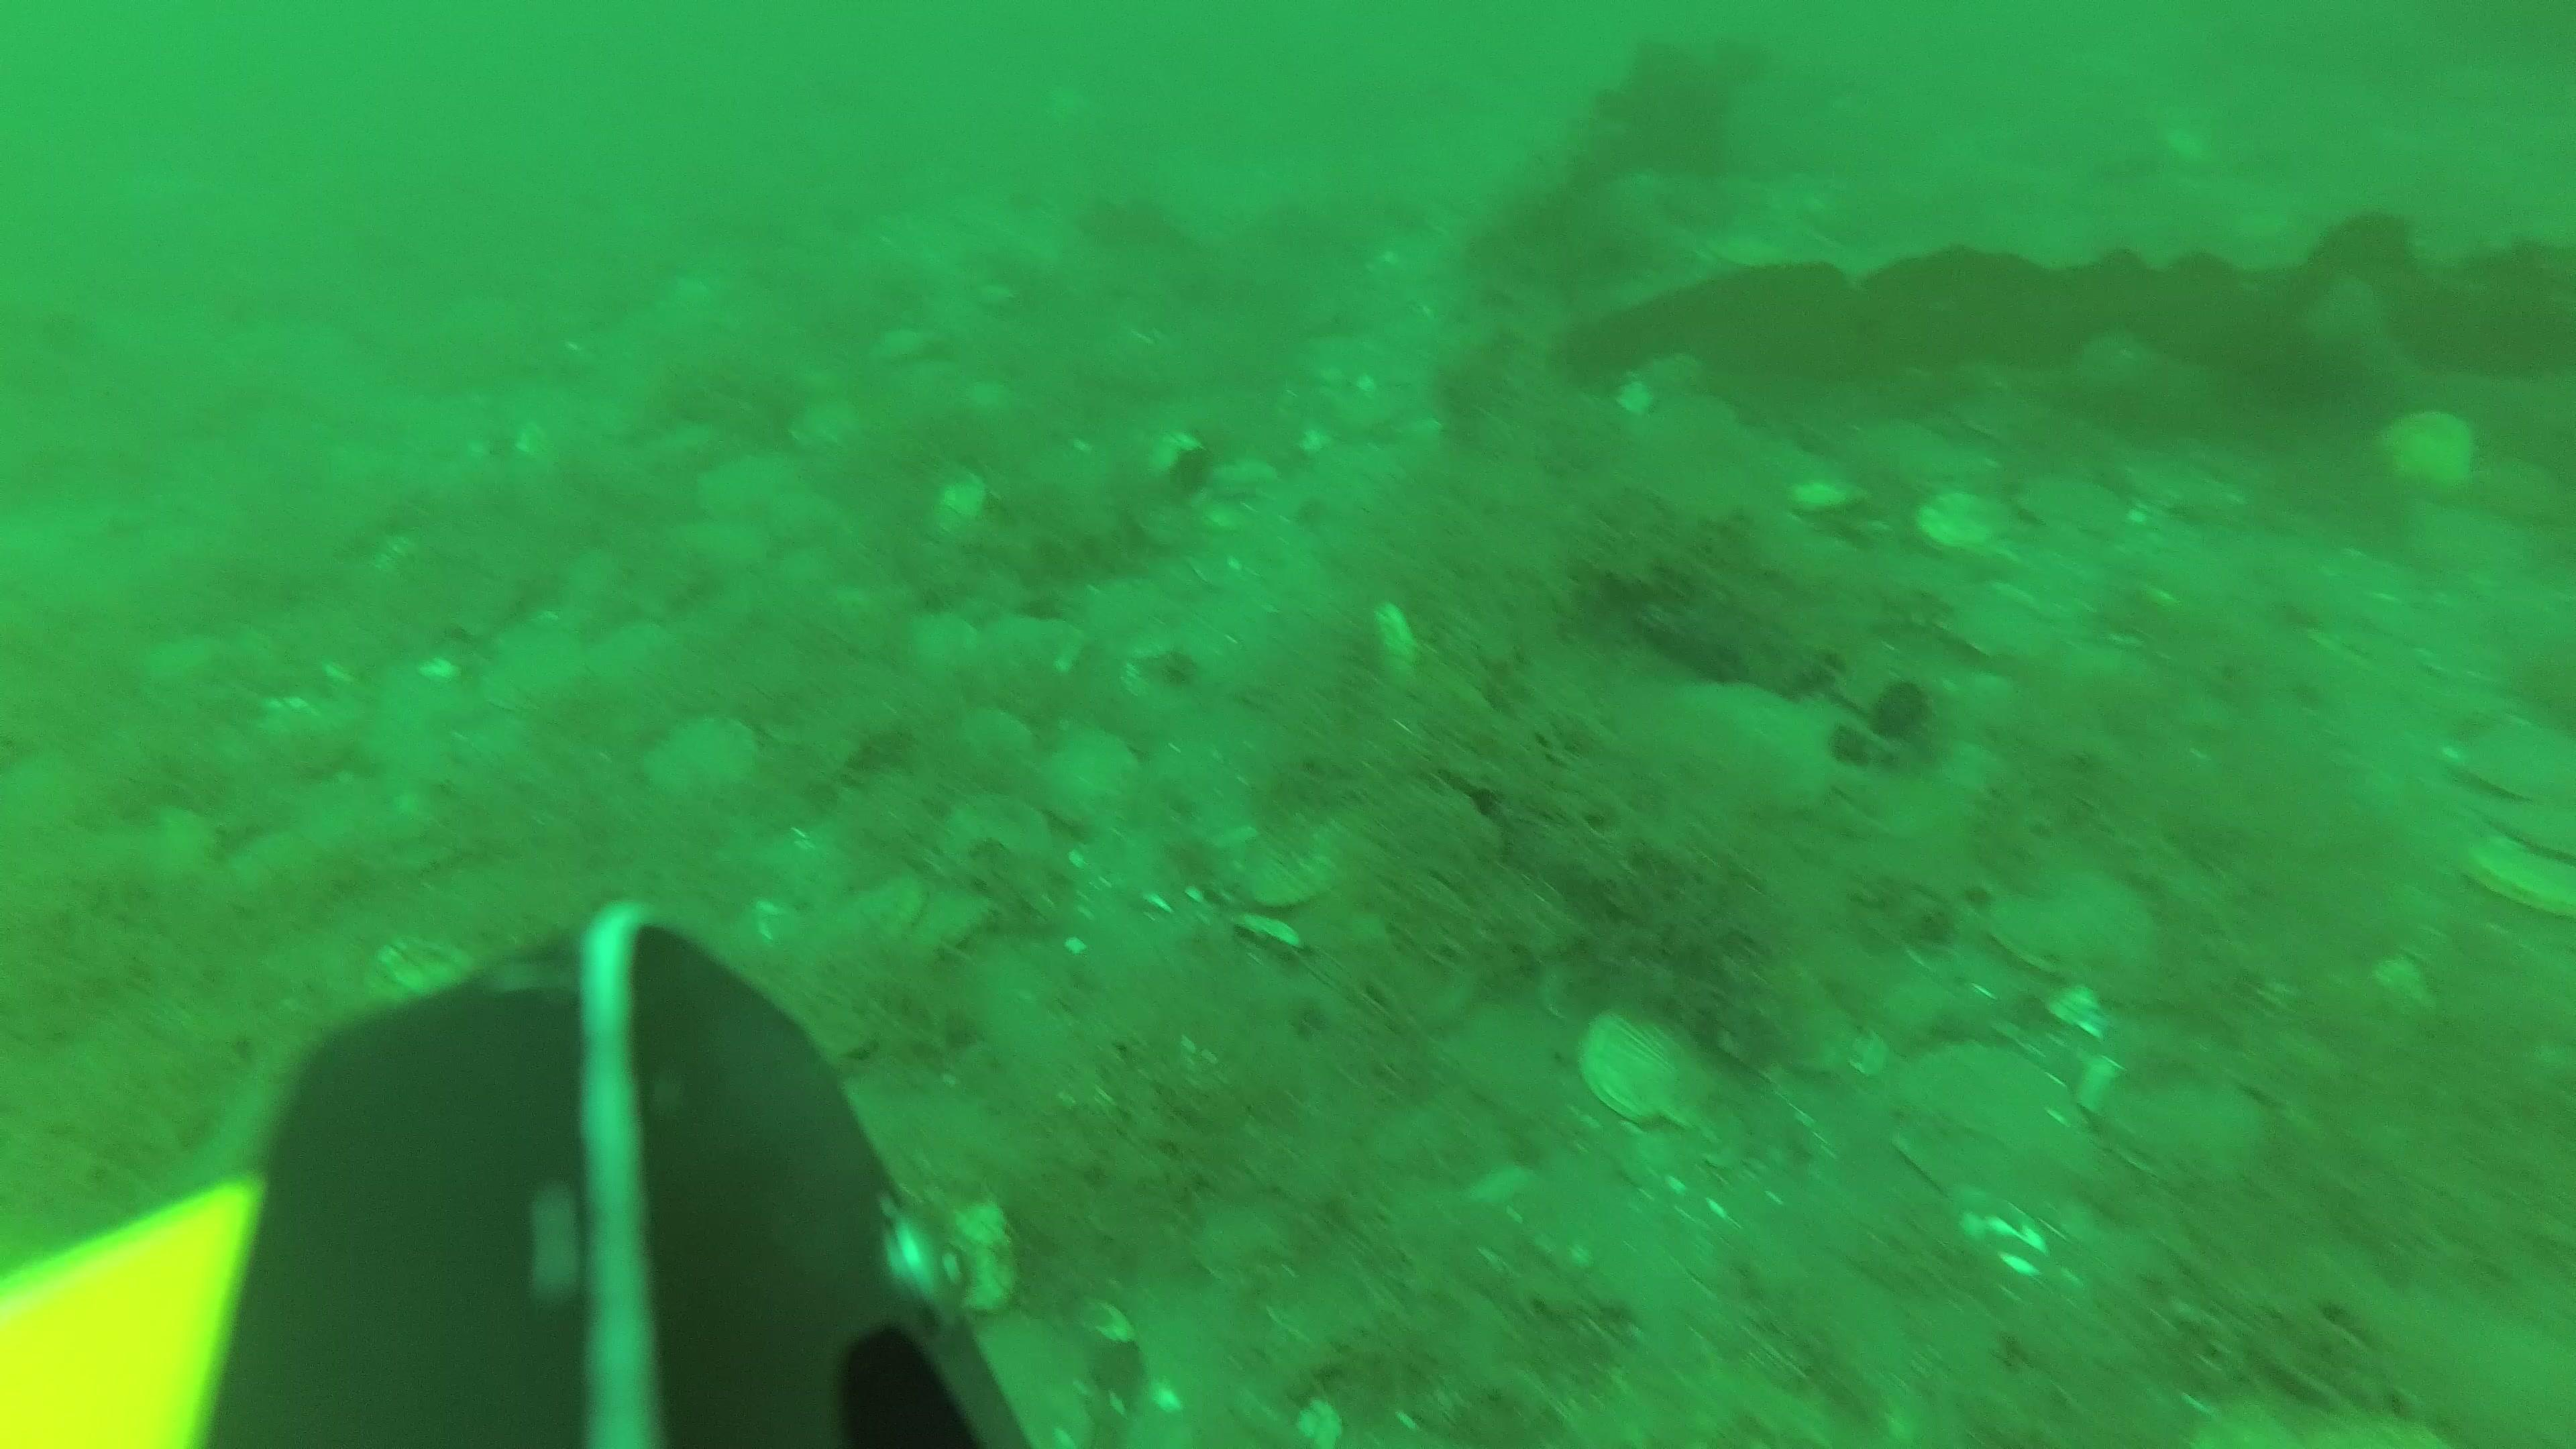scallop: (1897, 1047, 2077, 1226), (1663, 679, 1836, 832), (2112, 1054, 2268, 1192), (2001, 855, 2148, 985), (1566, 1001, 1697, 1118), (2463, 809, 2576, 924), (2443, 711, 2576, 800), (642, 702, 755, 800), (1030, 718, 1139, 816), (1932, 580, 2056, 663), (1244, 810, 1345, 909), (888, 899, 993, 989), (2385, 402, 2486, 488), (817, 883, 918, 970), (1921, 488, 2024, 559), (2498, 780, 2576, 862), (694, 458, 796, 518), (927, 455, 991, 541), (791, 398, 863, 455)
